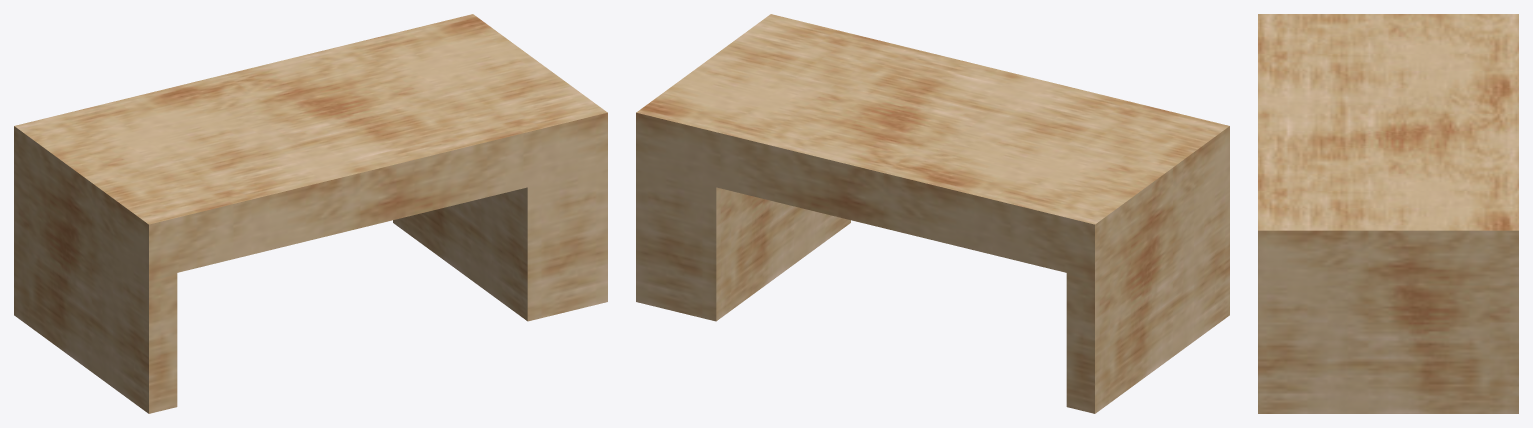
Rendered from WoodTable.fbx.
3 renders of one model, left to right at view 1: azimuth 30°, elevation 25°; view 2: azimuth 150°, elevation 25°; view 3: azimuth 270°, elevation 25°, orthographic. The views are drawn at different scales.
Parts seen in each view (by area): view 1: Table_33; view 2: Table_33; view 3: Table_33.
Boxes of the visible parts, left/top/right/bottom form: Table_33: left=14, top=14, right=607, bottom=413; Table_33: left=636, top=14, right=1229, bottom=413; Table_33: left=1258, top=14, right=1518, bottom=413.
Bounding box in the file's own units: 129 × 50.69 × 65.39.
